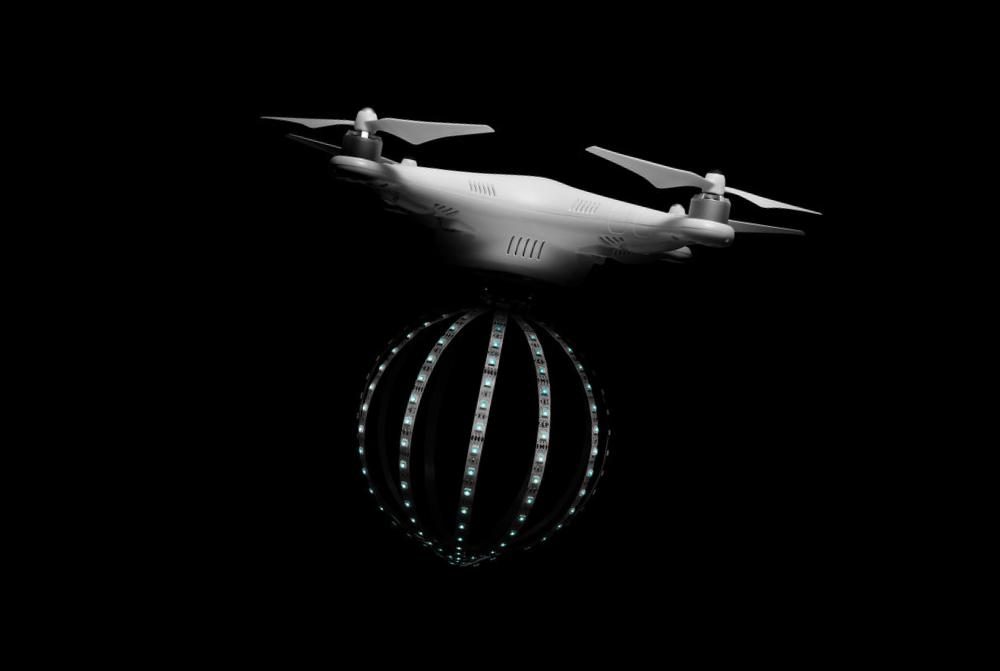drone: (228, 52, 834, 344)
